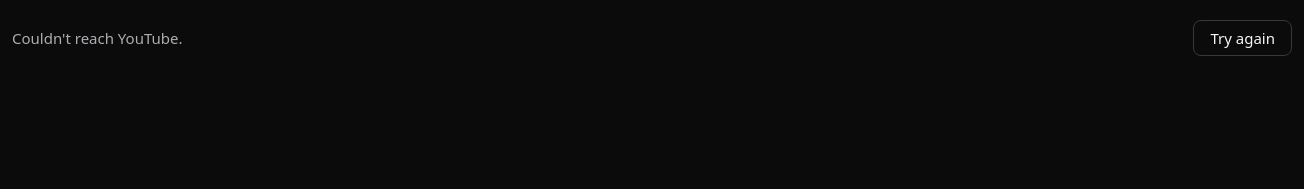
Test: YouTubePlaylists › shows the error and retries when the playlists cannot be read
Expected: the message shows "Couldn't reach YouTube.", [12,28,182,48]
Click the button "Try again".
click(1243, 38)  # box [1194,20,1292,56]
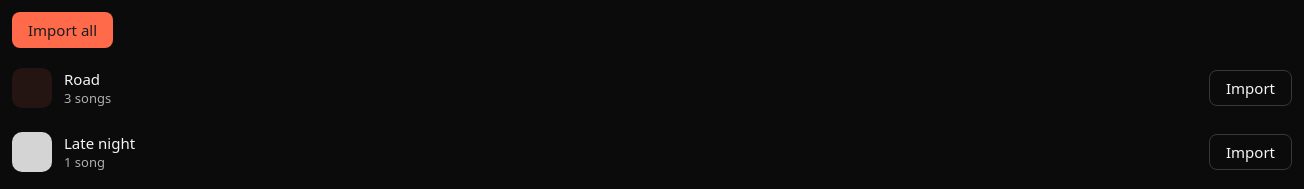
Expected: the text "Road" is shown, [64,69,100,89]
